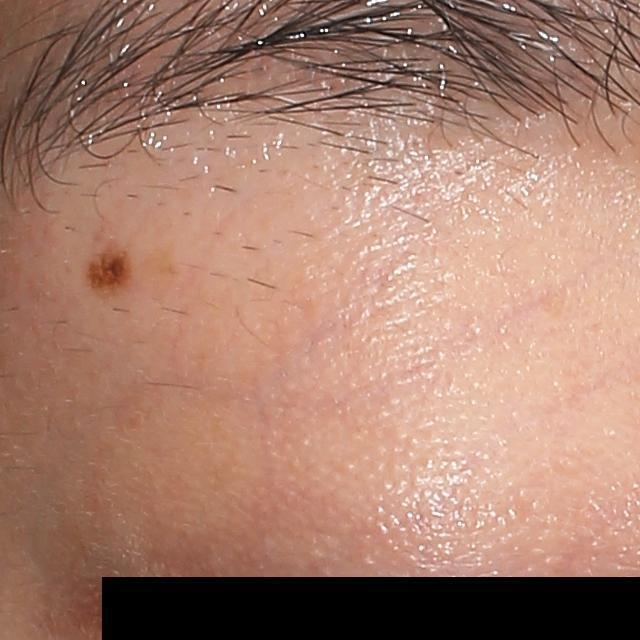nevus: (82, 239, 136, 299)
